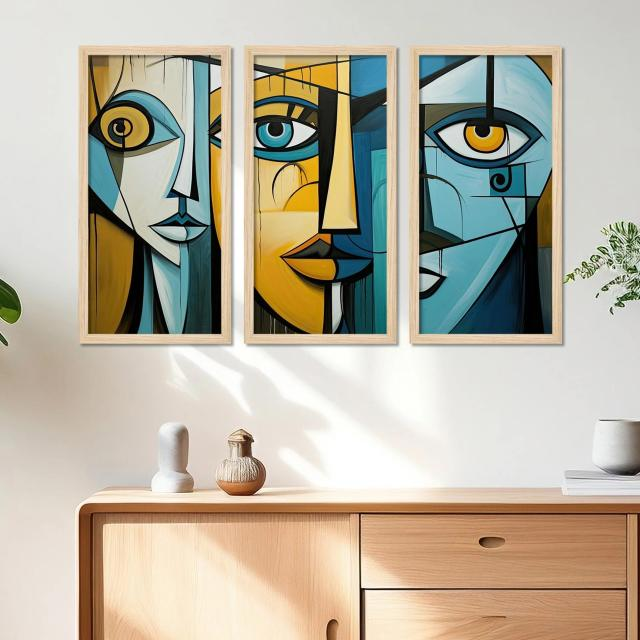painting: (77, 42, 234, 343), (409, 45, 564, 347), (245, 44, 400, 345)
